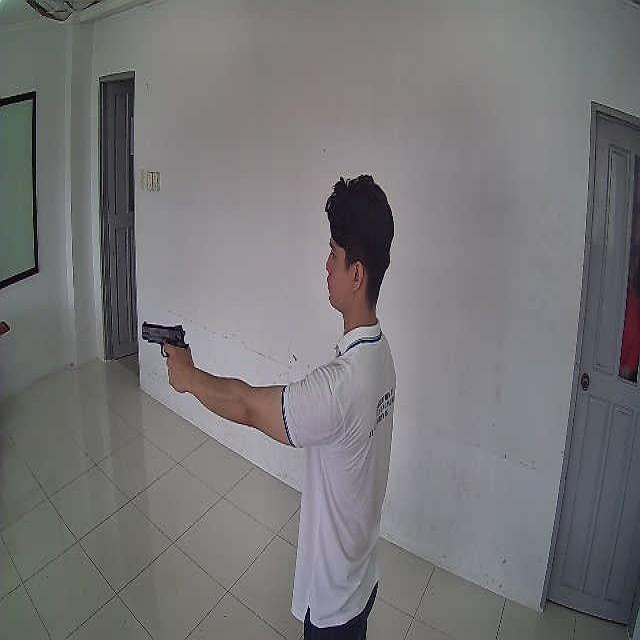pistol: (141, 322, 188, 358)
